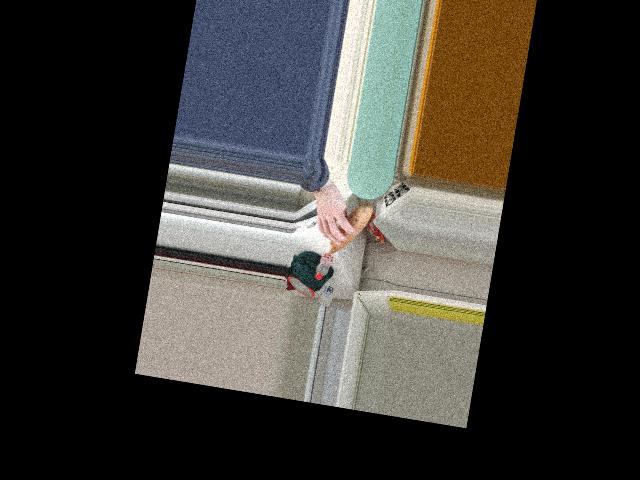sweet_potato: (322, 207, 371, 257)
